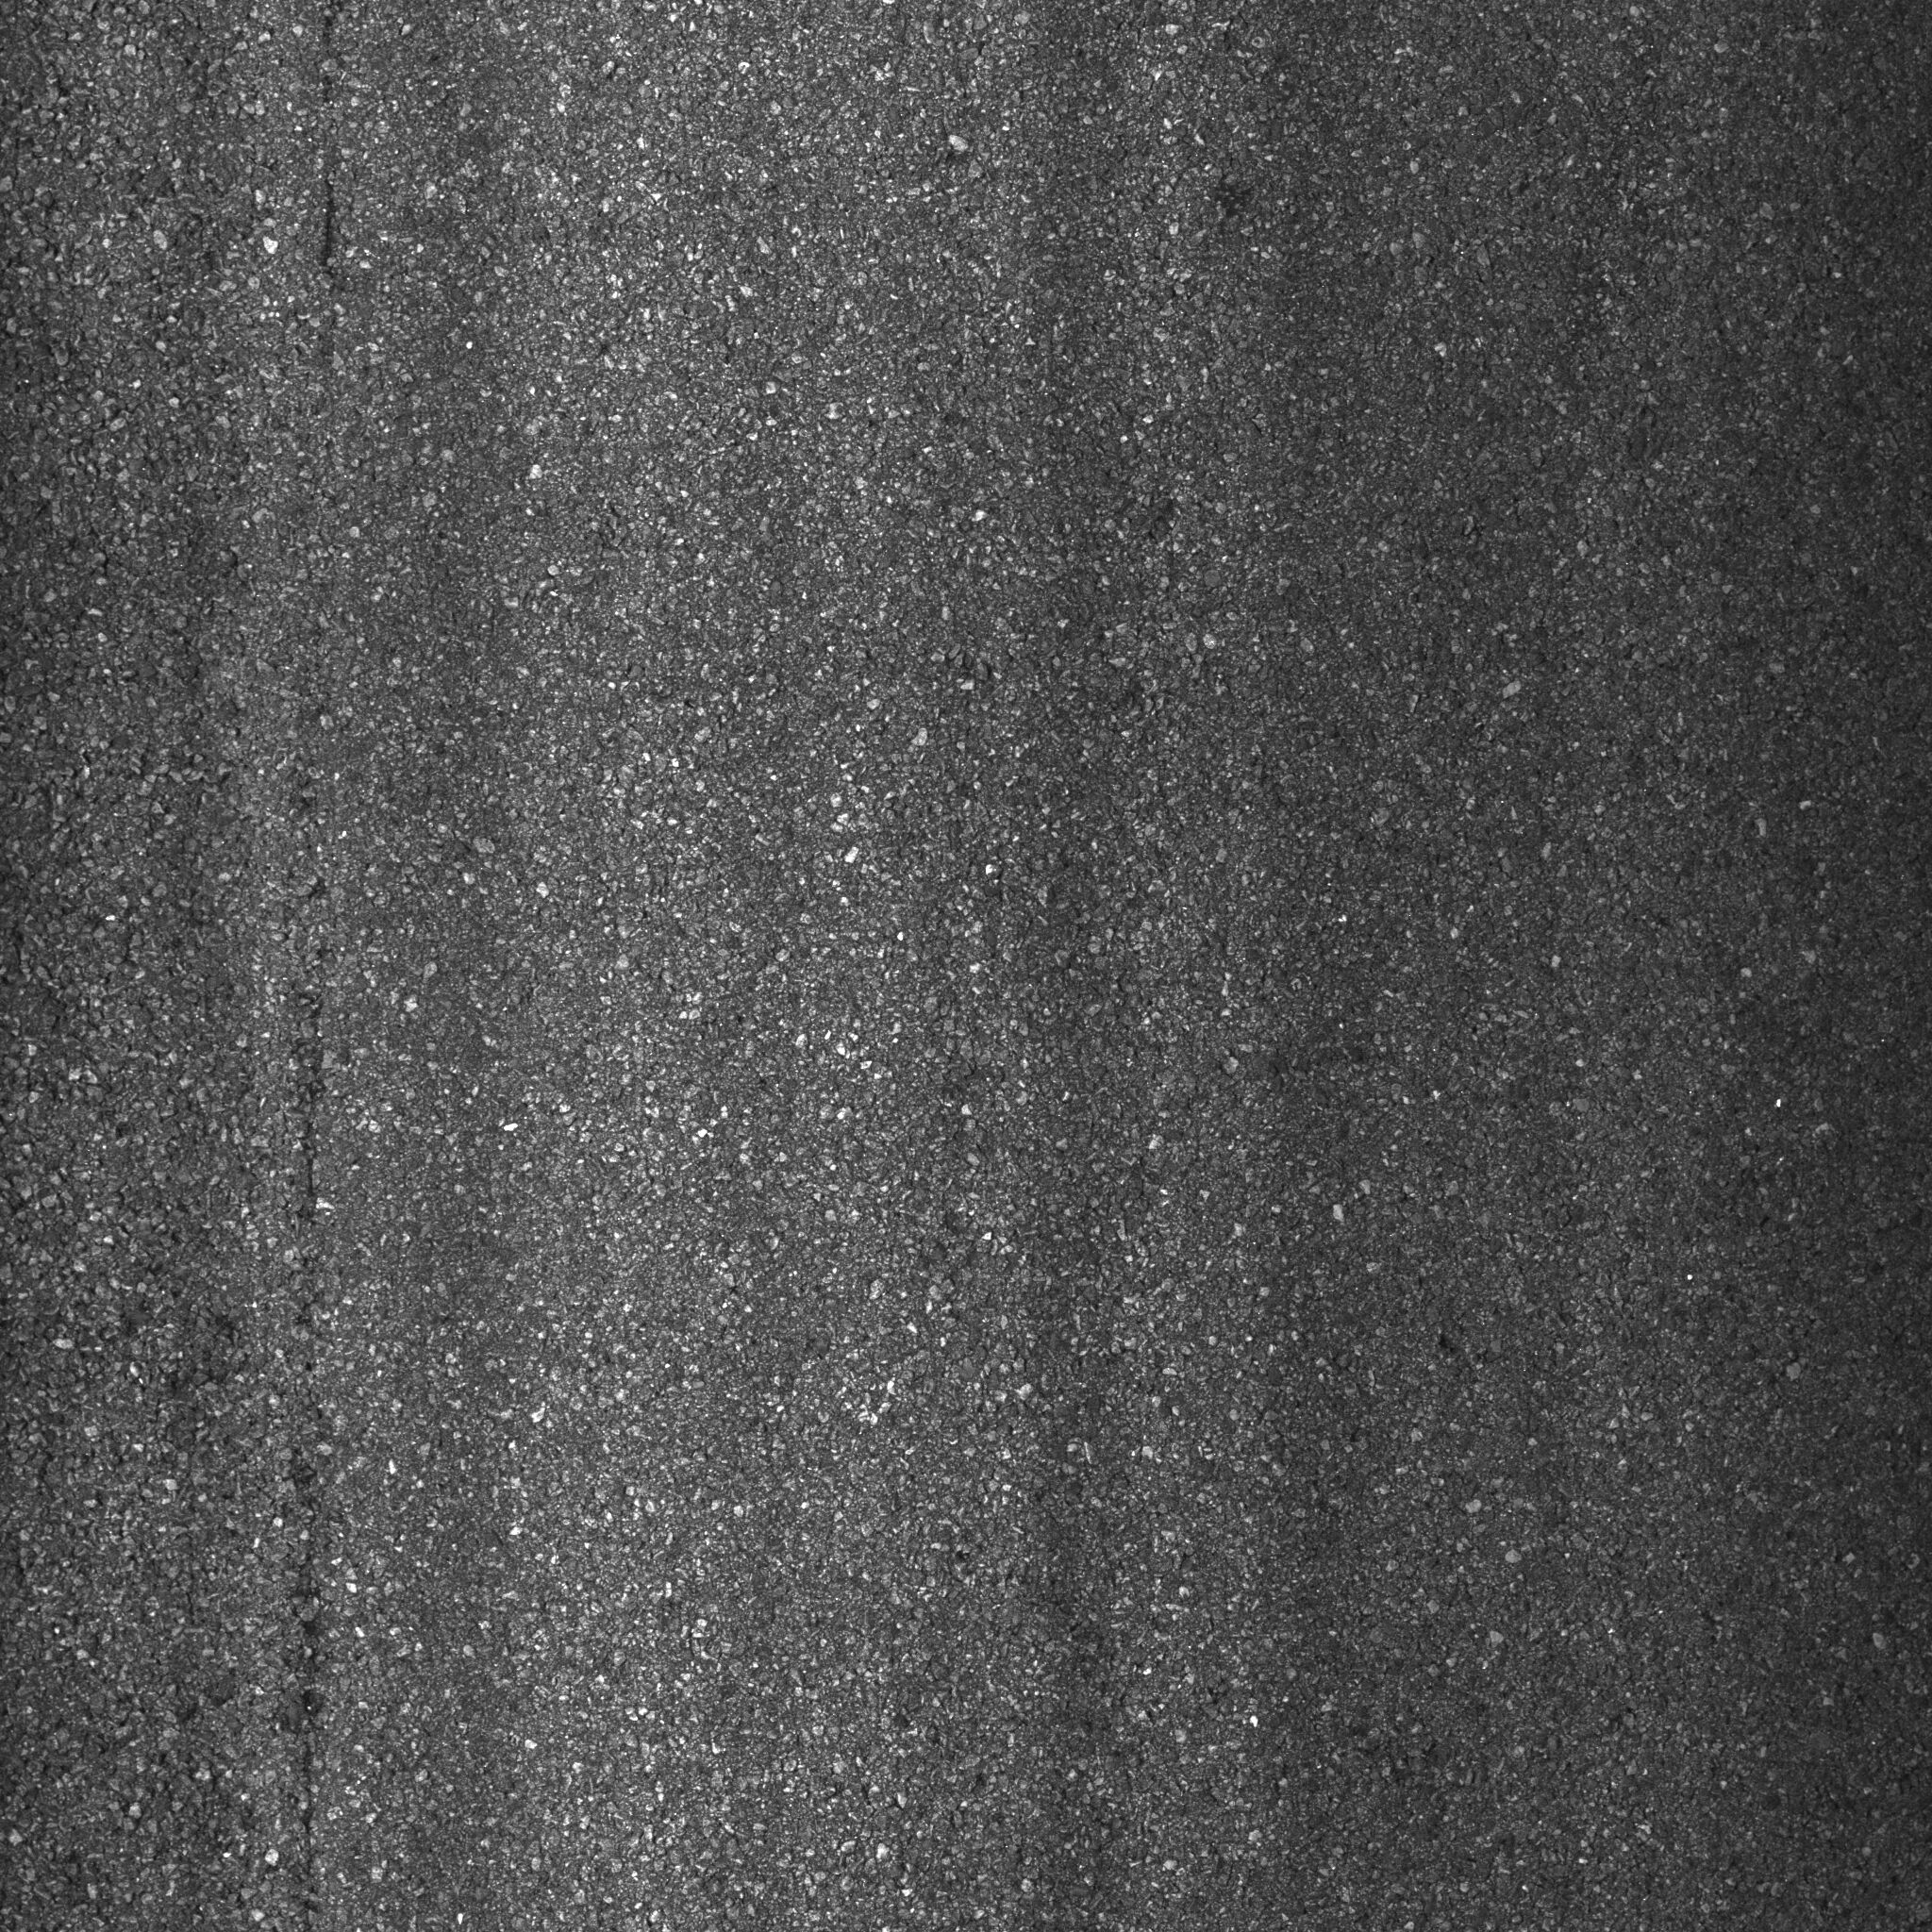longitudinal: (249, 681, 384, 1895), (288, 12, 379, 292)
